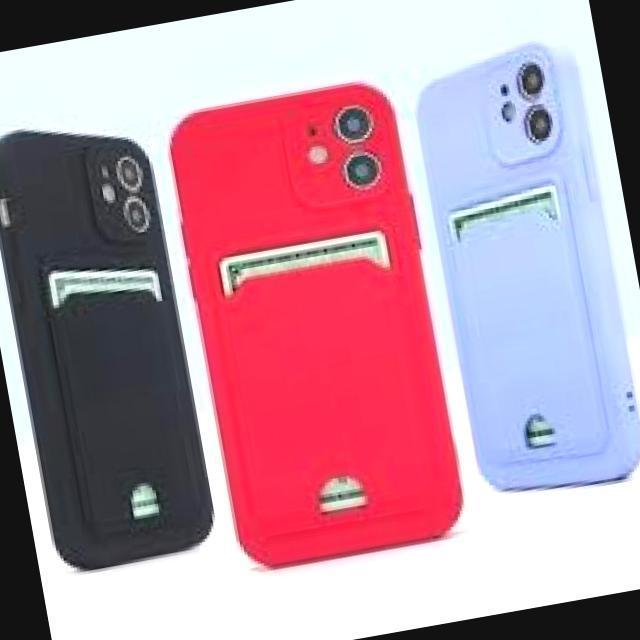phone: (162, 80, 464, 574), (416, 46, 640, 495), (0, 107, 209, 583)
